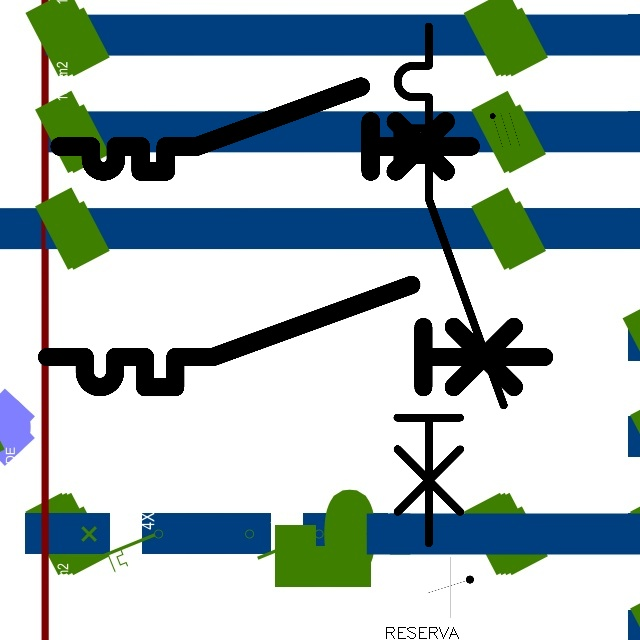interruptor_termomagnetico: (384, 13, 517, 556), (34, 272, 557, 400), (49, 76, 481, 182)
